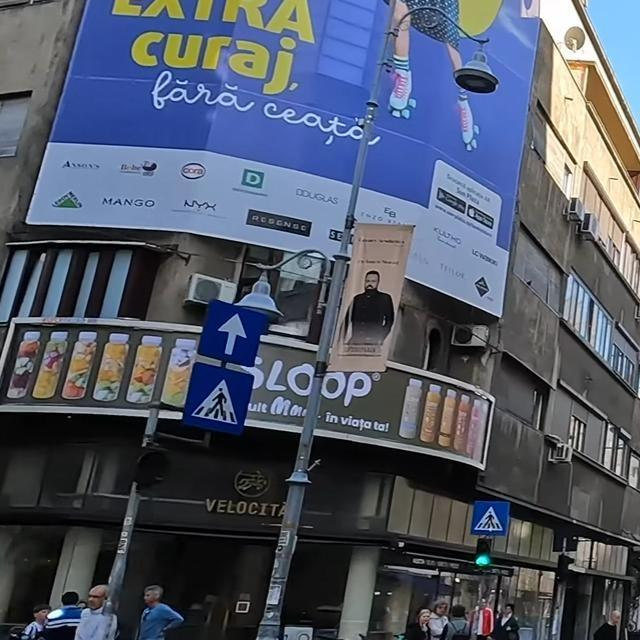info_crosswalk: (181, 363, 255, 433), (470, 499, 510, 536)
